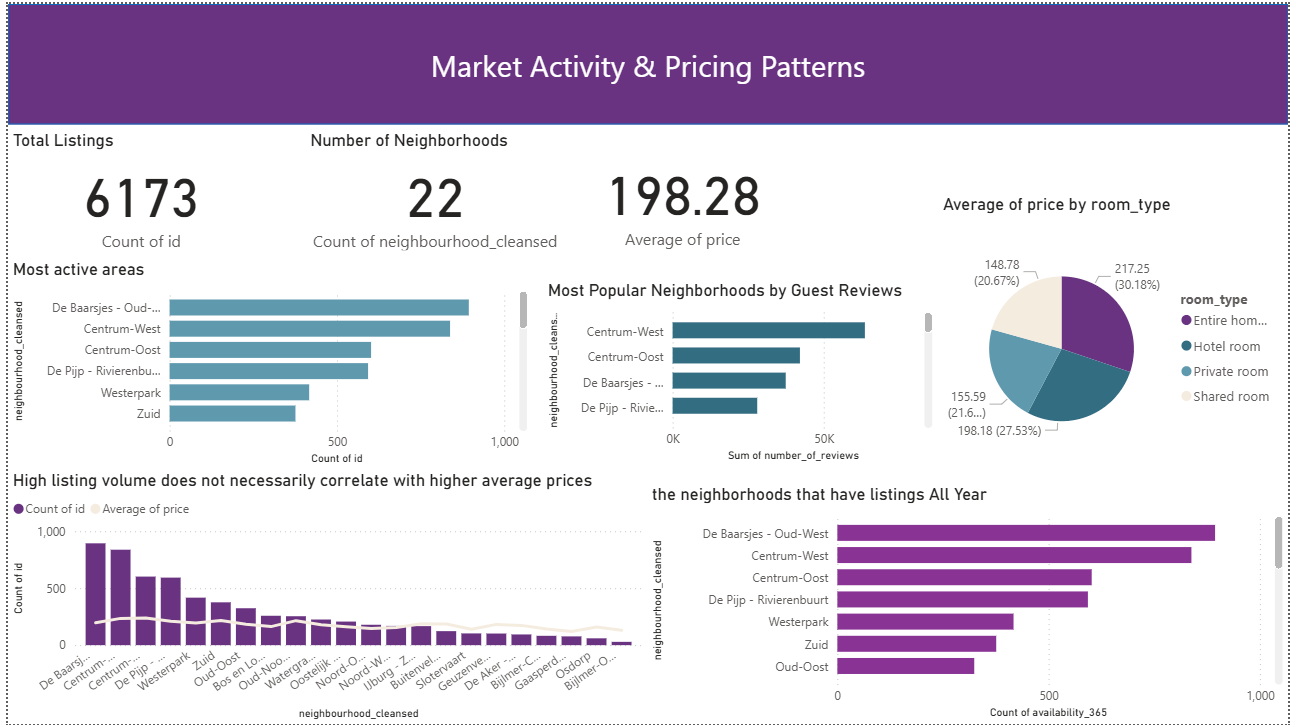

Layout of this report page (visuals, bound fields, positions):
{"tool":"powerbi","page":{"name":"Page 1","canvas":[1280,720],"ordinal":0},"visuals":[{"type":"card","title":"Total Listings","fields":{"Values":["CountNonNull(cleaned_airbnb_data.id)"]},"box":[0,126.4,267,125.2],"z":0},{"type":"card","title":"Number of Neighborhoods","fields":{"Values":["Count(cleaned_airbnb_data.neighbourhood_cleansed)"]},"box":[298,126.4,259.9,125.2],"z":1000},{"type":"card","fields":{"Values":["Avg(cleaned_airbnb_data.price)"]},"box":[572.3,125,204.9,142.4],"z":2000},{"type":"barChart","title":"Most active areas","fields":{"Category":["cleaned_airbnb_data.neighbourhood_cleansed"],"Y":["CountNonNull(cleaned_airbnb_data.id)"]},"box":[0,255.1,524.5,211],"z":4000},{"type":"lineClusteredColumnComboChart","title":"High listing volume does not necessarily correlate with higher average prices","fields":{"Category":["cleaned_airbnb_data.neighbourhood_cleansed"],"Y":["CountNonNull(cleaned_airbnb_data.id)"],"Y2":["Avg(cleaned_airbnb_data.price)"]},"box":[0,466.1,638.9,253.9],"z":5000},{"type":"pieChart","fields":{"Category":["cleaned_airbnb_data.room_type"],"Y":["Avg(cleaned_airbnb_data.price)"]},"box":[929.8,189.5,350.5,290.9],"z":6000},{"type":"barChart","title":"the neighborhoods that have listings All Year","fields":{"Category":["cleaned_airbnb_data.neighbourhood_cleansed"],"Y":["CountNonNull(cleaned_airbnb_data.availability_365)"]},"box":[638.9,480.4,641.3,239.6],"z":7000},{"type":"shape","title":"Market Activity & Pricing Patterns","box":[0,0,1280.3,120.5],"z":8000},{"type":"barChart","title":"Most Popular Neighborhoods by Guest Reviews","fields":{"Category":["cleaned_airbnb_data.neighbourhood_cleansed"],"Y":["Sum(cleaned_airbnb_data.number_of_reviews)"]},"box":[534.9,276.7,394.5,186.7],"z":9000}]}

Visuals, with their boxes in screenshot pixels (x1, y1, x2, y2), scaled from the page's 1280x720 canvas onto the 1296x727 screenshot:
"Total Listings" card: 0, 128, 270, 254
"Number of Neighborhoods" card: 302, 128, 565, 254
card - Avg(cleaned_airbnb_data.price): 579, 126, 787, 270
"Most active areas" barChart: 0, 258, 531, 471
"High listing volume does not necessarily correlate with higher average prices" lineClusteredColumnComboChart: 0, 471, 647, 726
pieChart - cleaned_airbnb_data.room_type x Avg(cleaned_airbnb_data.price): 941, 191, 1295, 485
"the neighborhoods that have listings All Year" barChart: 647, 485, 1295, 726
"Market Activity & Pricing Patterns" shape: 0, 0, 1295, 122
"Most Popular Neighborhoods by Guest Reviews" barChart: 542, 279, 941, 468
